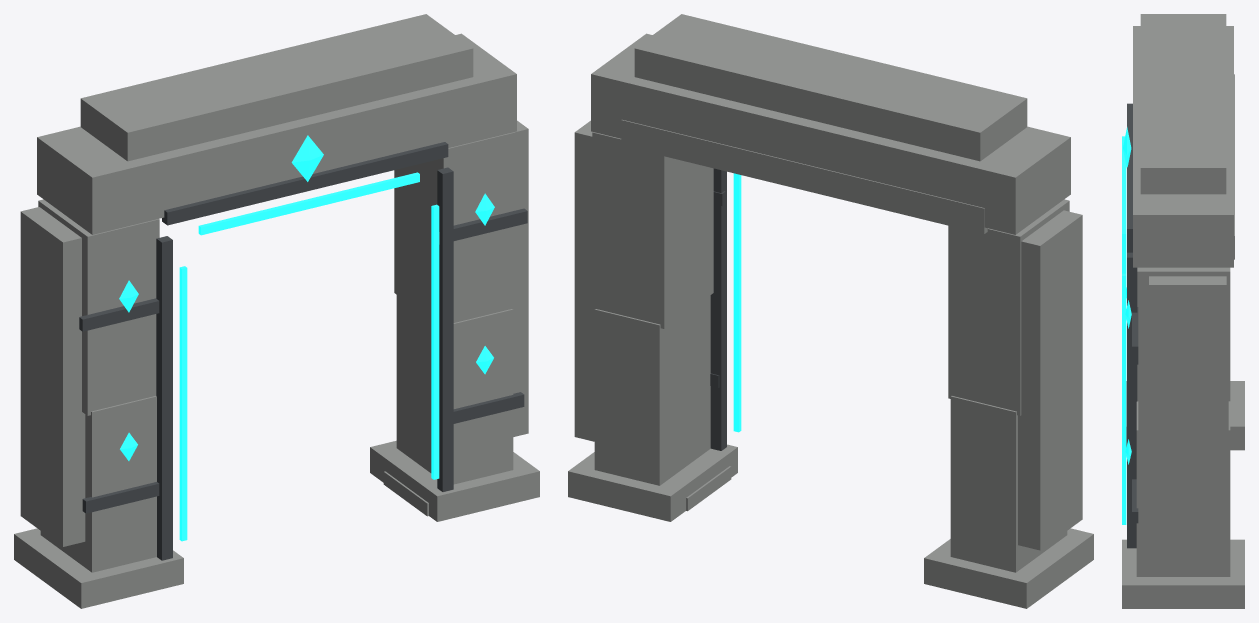
File: SM_AET_PortalArch_A01.fbx
3 renders of one model, left to right at view 1: azimuth 30°, elevation 25°; view 2: azimuth 150°, elevation 25°; view 3: azimuth 270°, elevation 25°, orthographic. The views are drawn at different scales.
Parts seen in each view (by area): view 1: Capstone_Main_ImpossibleSlab, Capstone_Top_WeatheredCrown, Column_Left_OuterShoulder, Column_Right_UpperMegalith, Column_Right_LowerMegalith, Column_Left_UpperMegalith, Column_Left_LowerMegalith, Base_Left_MegalithFoot, Base_Right_MegalithFoot, InnerFrame_Left_DarkIron, InnerFrame_Right_DarkIron, InnerFrame_Top_DarkIron (+10 smaller); view 2: Capstone_Top_WeatheredCrown, Capstone_Main_ImpossibleSlab, Column_Left_OuterShoulder, Column_Right_UpperMegalith, Column_Right_LowerMegalith, Column_Left_UpperMegalith, Column_Left_LowerMegalith, Capstone_BackCounterweight, Base_Left_MegalithFoot, Column_Right_OuterShoulder, Base_Right_MegalithFoot, InnerFrame_Right_DarkIron (+2 smaller); view 3: Column_Right_OuterShoulder, Capstone_Top_WeatheredCrown, Capstone_Main_ImpossibleSlab, Base_Right_MegalithFoot, Column_Right_LowerMegalith, Column_Right_UpperMegalith, InnerFrame_Right_DarkIron, Aetherium_Channel_Right, Base_Left_MegalithFoot, InnerFrame_Top_DarkIron, Column_Left_LowerMegalith, Aetherium_Channel_Top (+3 smaller).
Boxes of the visible parts, x1=… form: Capstone_Main_ImpossibleSlab: x1=37, y1=33, x2=516, y2=234; Capstone_Top_WeatheredCrown: x1=80, y1=14, x2=473, y2=161; Column_Left_OuterShoulder: x1=20, y1=207, x2=85, y2=546; Column_Right_UpperMegalith: x1=394, y1=132, x2=515, y2=322; Column_Right_LowerMegalith: x1=396, y1=295, x2=513, y2=484; Column_Left_UpperMegalith: x1=38, y1=199, x2=159, y2=415; Column_Left_LowerMegalith: x1=40, y1=396, x2=156, y2=572; Base_Left_MegalithFoot: x1=14, y1=528, x2=183, y2=608; Base_Right_MegalithFoot: x1=370, y1=440, x2=539, y2=521; InnerFrame_Left_DarkIron: x1=156, y1=236, x2=172, y2=560; InnerFrame_Right_DarkIron: x1=437, y1=167, x2=453, y2=491; InnerFrame_Top_DarkIron: x1=162, y1=142, x2=448, y2=225; Capstone_Top_WeatheredCrown: x1=634, y1=14, x2=1027, y2=161; Capstone_Main_ImpossibleSlab: x1=591, y1=33, x2=1070, y2=234; Column_Left_OuterShoulder: x1=1018, y1=210, x2=1082, y2=550; Column_Right_UpperMegalith: x1=592, y1=132, x2=713, y2=328; Column_Right_LowerMegalith: x1=594, y1=295, x2=710, y2=485; Column_Left_UpperMegalith: x1=948, y1=199, x2=1069, y2=415; Column_Left_LowerMegalith: x1=950, y1=396, x2=1067, y2=572; Capstone_BackCounterweight: x1=621, y1=119, x2=987, y2=234; Base_Left_MegalithFoot: x1=924, y1=528, x2=1093, y2=608; Column_Right_OuterShoulder: x1=574, y1=120, x2=594, y2=441; Base_Right_MegalithFoot: x1=568, y1=444, x2=737, y2=521; InnerFrame_Right_DarkIron: x1=710, y1=168, x2=726, y2=450; Column_Right_OuterShoulder: x1=1149, y1=276, x2=1226, y2=562; Capstone_Top_WeatheredCrown: x1=1140, y1=14, x2=1226, y2=194; Capstone_Main_ImpossibleSlab: x1=1133, y1=26, x2=1233, y2=267; Base_Right_MegalithFoot: x1=1122, y1=539, x2=1244, y2=608; Column_Right_LowerMegalith: x1=1136, y1=401, x2=1230, y2=576; Column_Right_UpperMegalith: x1=1138, y1=267, x2=1228, y2=435; InnerFrame_Right_DarkIron: x1=1127, y1=252, x2=1137, y2=548; Aetherium_Channel_Right: x1=1122, y1=273, x2=1126, y2=524; Base_Left_MegalithFoot: x1=1126, y1=381, x2=1244, y2=450; InnerFrame_Top_DarkIron: x1=1127, y1=103, x2=1132, y2=240; Column_Left_LowerMegalith: x1=1137, y1=267, x2=1230, y2=401; Aetherium_Channel_Top: x1=1122, y1=136, x2=1126, y2=240.
Size of what is drawn, in the model's own units: 34000 by 136000 by 127000.
